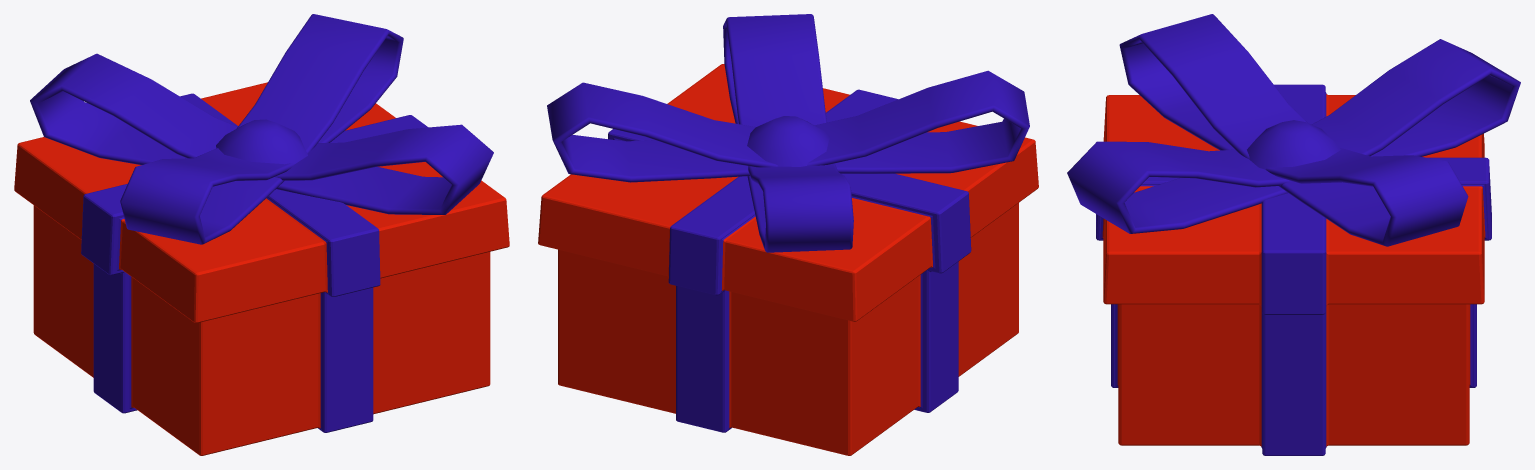
The model's file is gift.glb.
The picture shows the model from 3 angles, left to right: view 1: azimuth 30°, elevation 25°; view 2: azimuth 150°, elevation 25°; view 3: azimuth 270°, elevation 25°; orthographic projection. The views are drawn at different scales.
Parts seen in each view (by area): view 1: gift; view 2: gift; view 3: gift.
Part boxes in pixels (<box>): gift: <box>14,14,509,455</box>; gift: <box>538,14,1038,455</box>; gift: <box>1067,14,1520,455</box>.
Size of the model in its own units: 0.3584 by 0.2418 by 0.3547.
